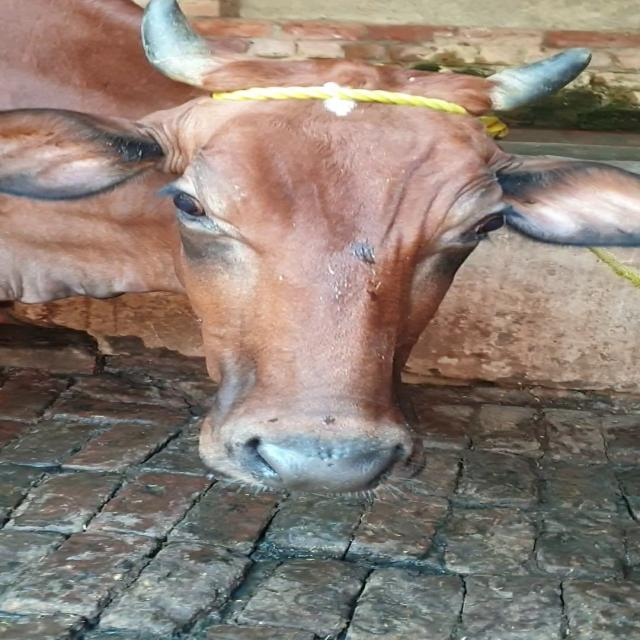cowFace: (166, 42, 518, 486), (342, 372, 350, 493), (342, 494, 351, 514)
